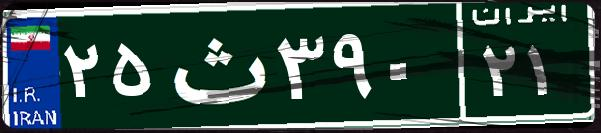0: (385, 28, 445, 110)
1: (525, 38, 570, 115)
2: (57, 26, 110, 107), (475, 38, 525, 113)
3: (273, 28, 330, 110)
5: (110, 28, 158, 105)
9: (330, 28, 385, 110)
ث: (158, 15, 273, 115)
